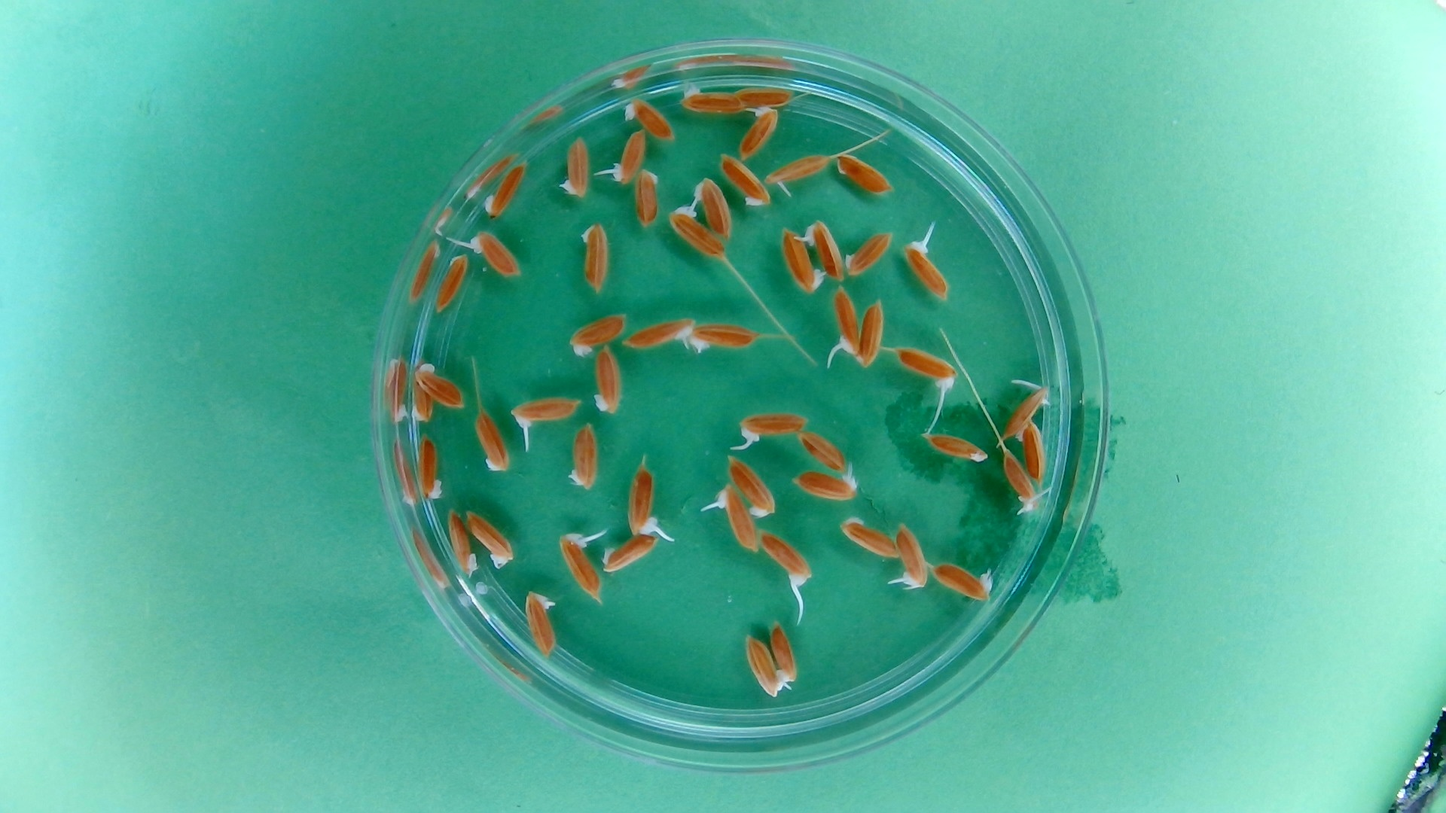no: (727, 451, 779, 518), (463, 507, 516, 571), (718, 151, 773, 209), (779, 227, 825, 294), (566, 310, 628, 358), (833, 151, 895, 197), (482, 159, 529, 219), (837, 515, 899, 560), (931, 561, 995, 604), (621, 93, 677, 142), (843, 227, 895, 279), (682, 321, 759, 355), (577, 220, 612, 294), (472, 409, 511, 475), (555, 133, 592, 202), (444, 508, 479, 579), (565, 422, 601, 491), (601, 533, 660, 574), (921, 430, 989, 465), (591, 344, 624, 416), (433, 251, 470, 315), (677, 81, 744, 116), (796, 430, 848, 473), (414, 433, 445, 503), (769, 620, 801, 687), (856, 298, 886, 367), (416, 364, 465, 406), (1020, 420, 1049, 483), (731, 83, 796, 110), (633, 166, 660, 229), (410, 379, 436, 426)
yes: (667, 204, 726, 259), (758, 527, 813, 586), (558, 530, 602, 601), (903, 239, 951, 303), (715, 482, 758, 551), (1003, 384, 1053, 440), (742, 633, 785, 698), (691, 176, 734, 239), (895, 346, 956, 390), (624, 315, 696, 352), (468, 229, 521, 279), (1000, 452, 1042, 514), (522, 590, 559, 659), (804, 218, 844, 281), (892, 522, 929, 590), (736, 410, 807, 445), (625, 464, 659, 537), (792, 465, 859, 501), (829, 285, 862, 358), (737, 105, 780, 161), (508, 395, 578, 428), (764, 152, 828, 187), (609, 127, 647, 185)
